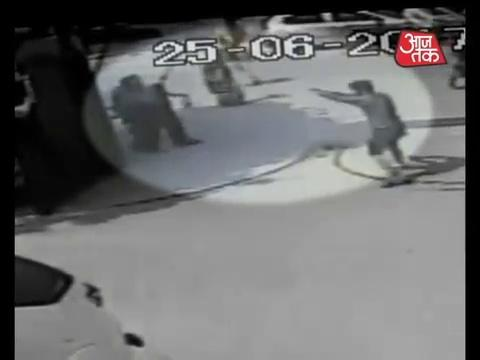weapon: (303, 84, 324, 100)
